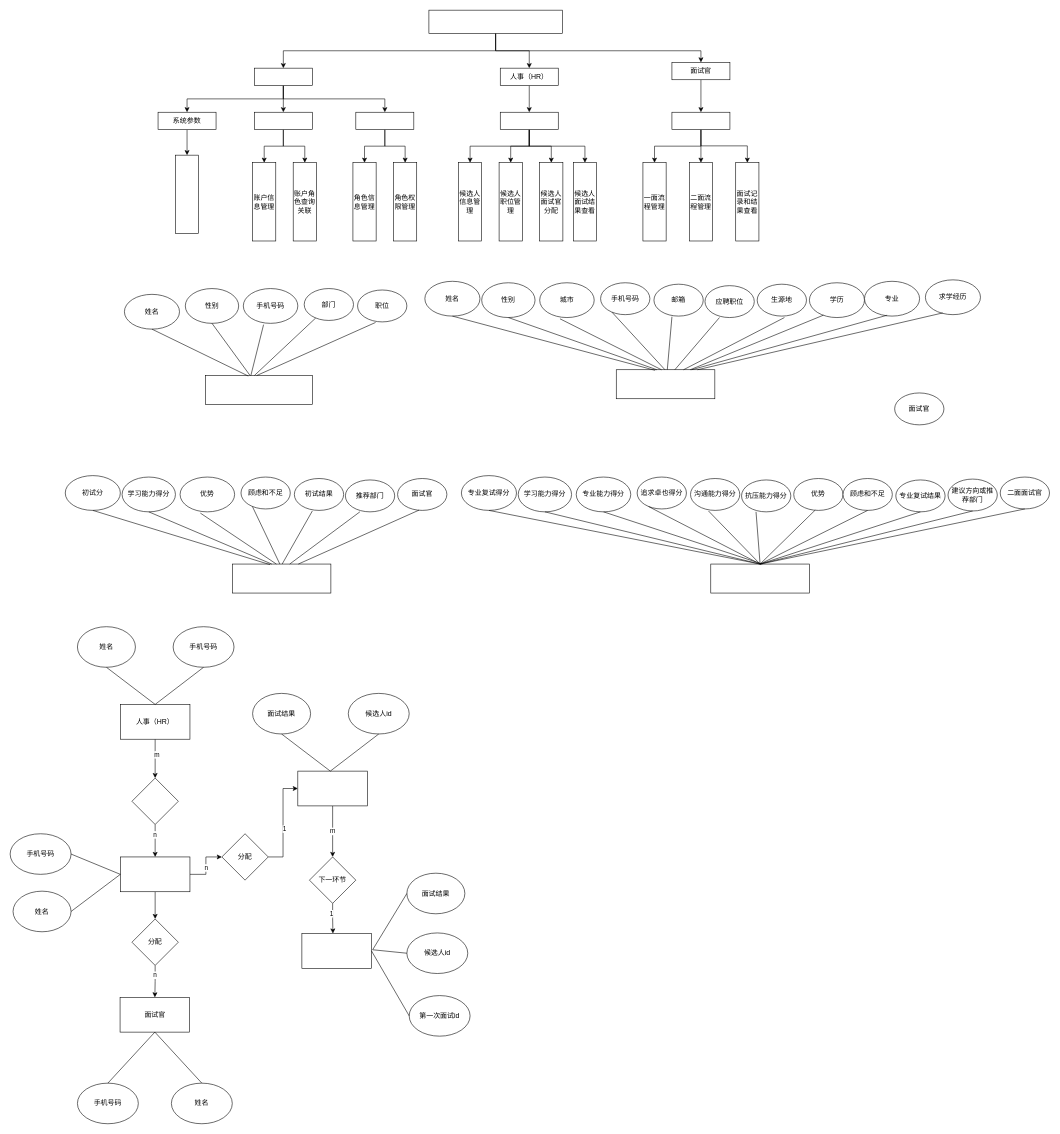
This 1060x1134 diagram has some shape labels left out. Here are the shapes that lost their labels. From the top down, the box of each, then its label:
(428, 10, 562, 33): 企业简易内部招聘系统
(254, 68, 312, 86): 管理员
(254, 112, 312, 130): 账户管理
(355, 112, 414, 130): 角色管理
(500, 112, 558, 130): 候选人管理
(671, 112, 730, 130): 面试管理
(175, 155, 199, 233): 系统参数配置管理
(205, 375, 312, 405): 人事 （ HR ） 信息实体
(616, 369, 715, 399): 候选人信息实体
(232, 563, 331, 593): 第一轮面试信息实体
(710, 563, 809, 593): 第二轮面试信息实体
(131, 777, 178, 824): 管理
(297, 771, 367, 806): 第一轮面试
(120, 856, 190, 892): 候选人
(301, 933, 371, 968): 第二轮面试
